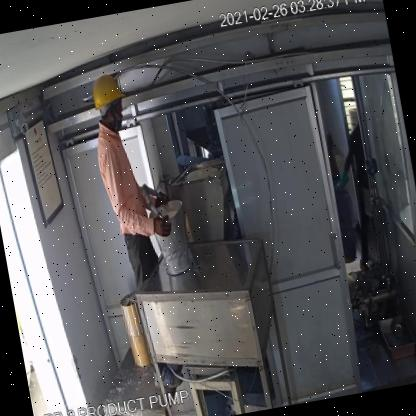capacete: (86, 68, 133, 116)
